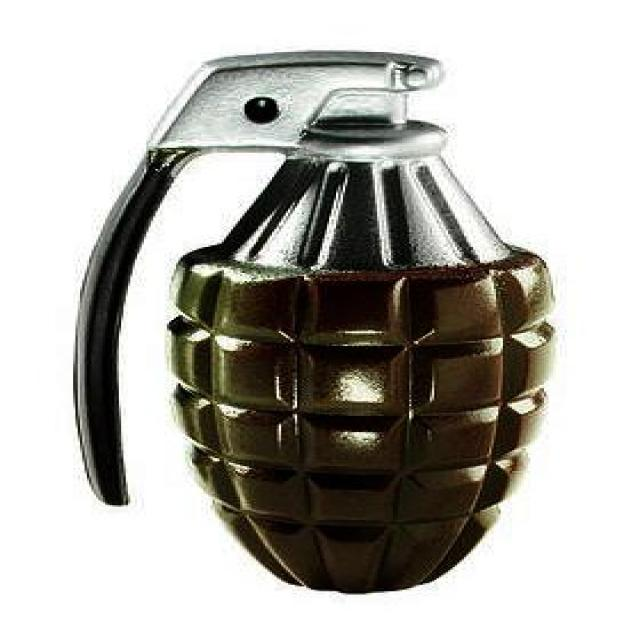grenade: (77, 52, 559, 596)
